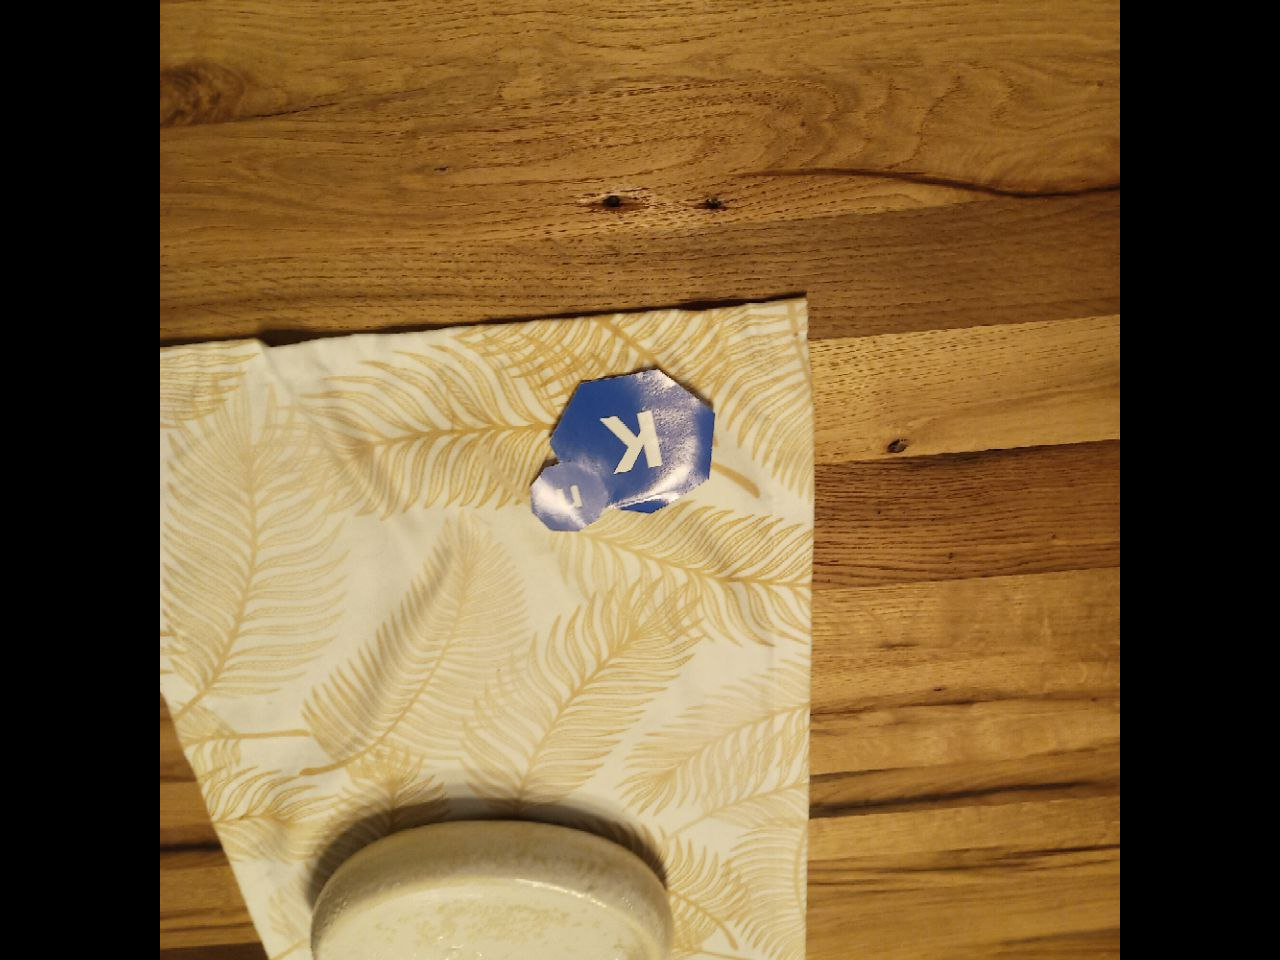knative: (529, 365, 717, 533)
